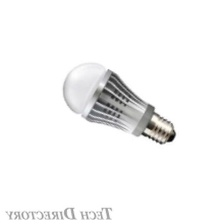light_bulb: (56, 60, 180, 148)
